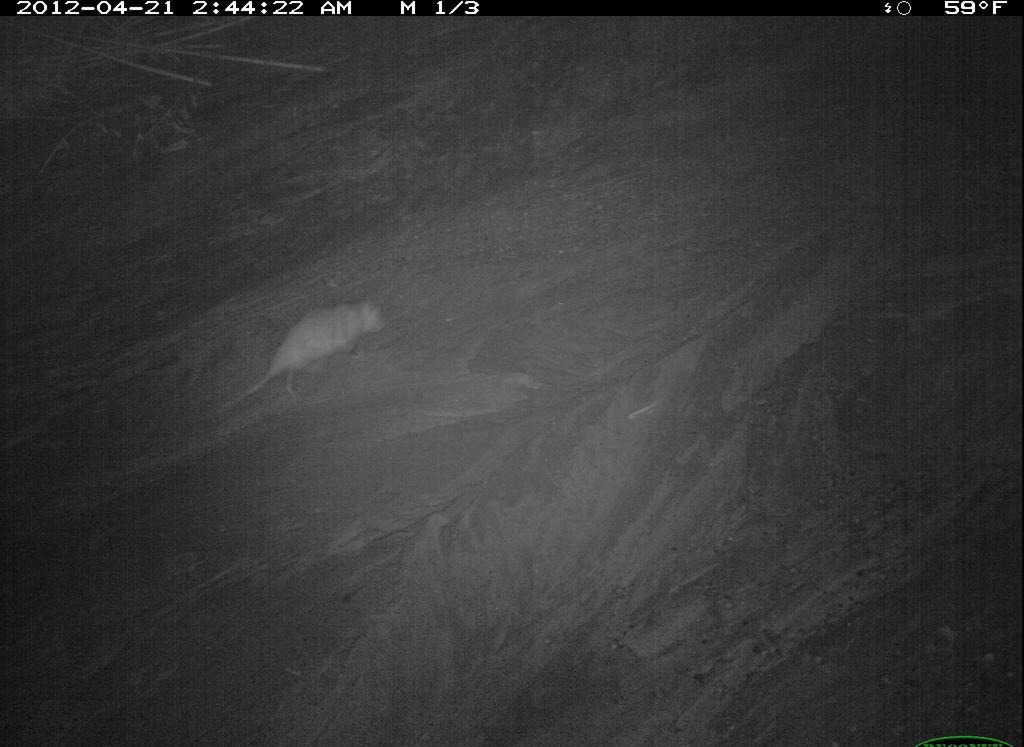opossum: (423, 582, 794, 747)
